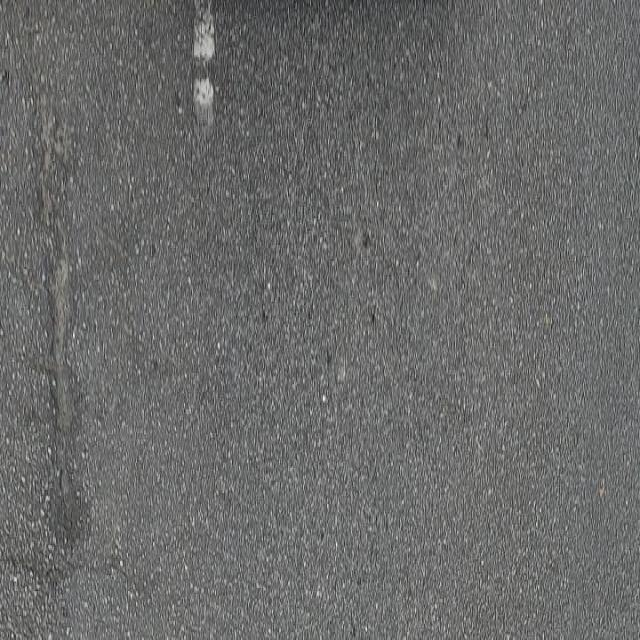cracks: (15, 19, 84, 629)
